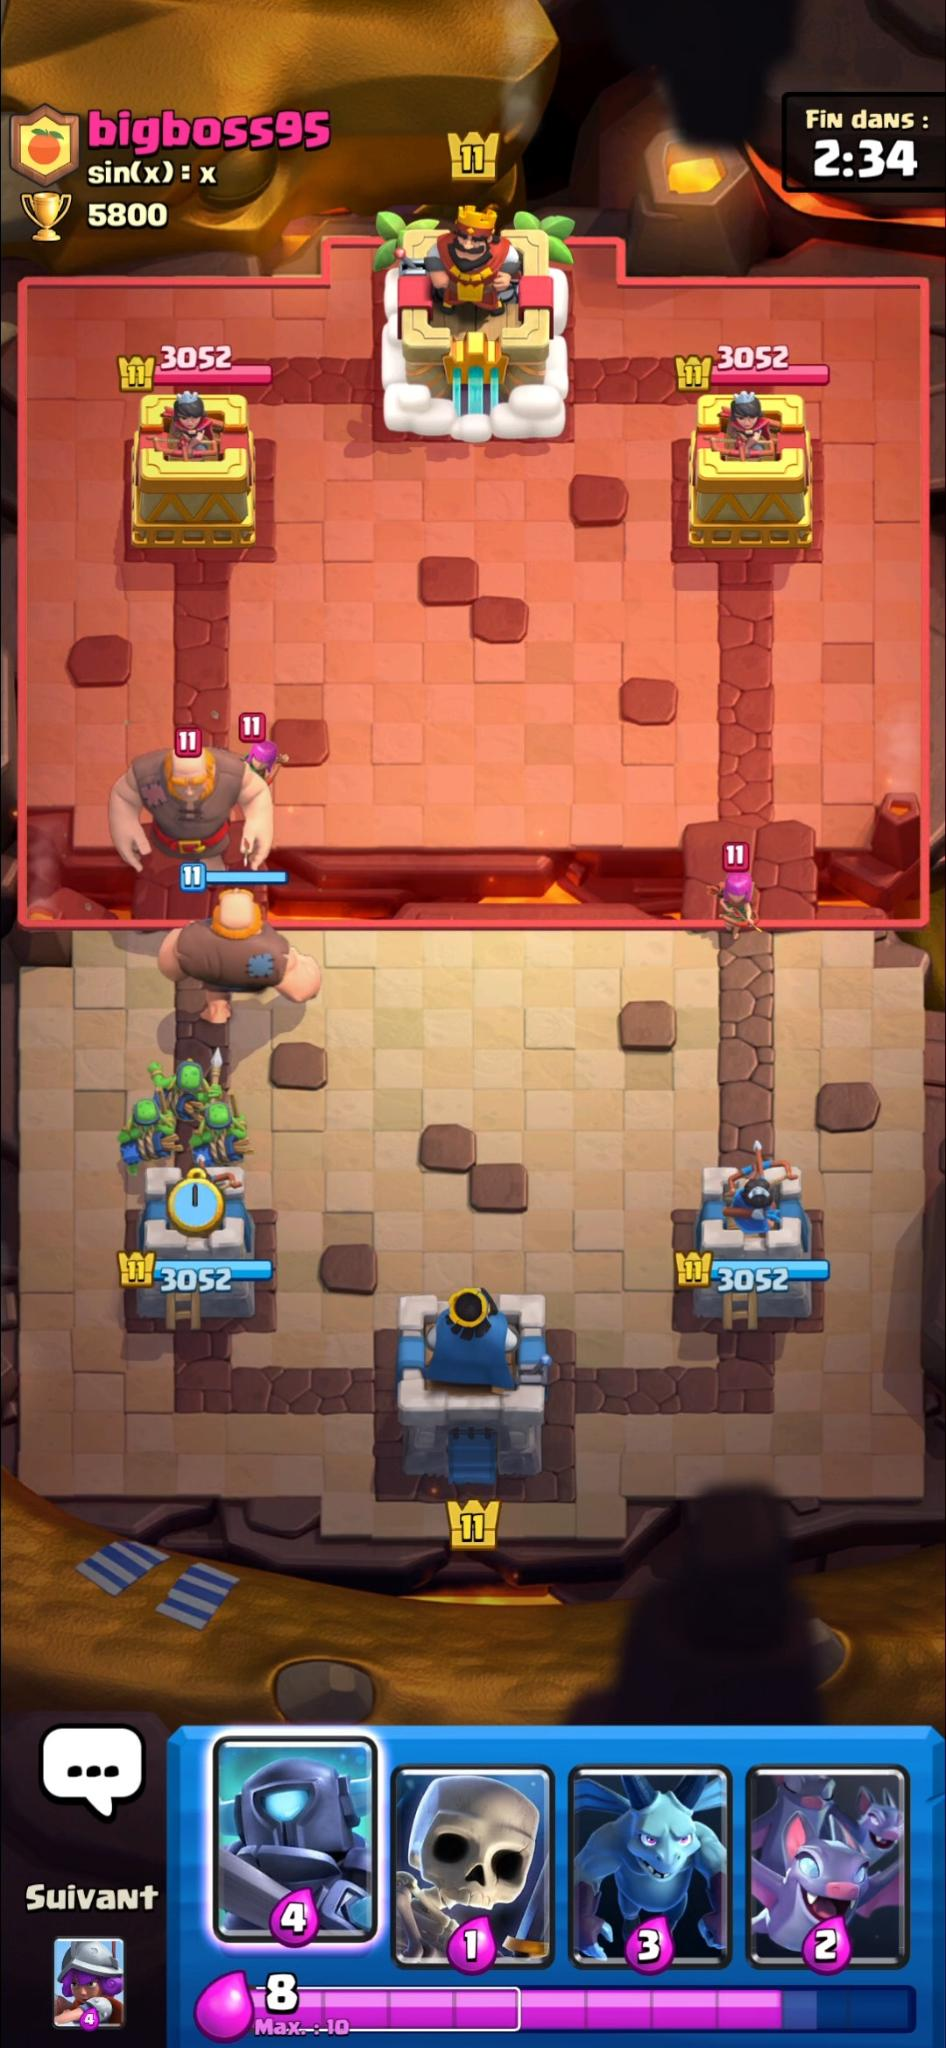archere: (711, 867, 770, 944), (236, 738, 294, 781)
geant: (165, 883, 320, 1027), (115, 742, 276, 876)
gobelin_lances: (142, 1051, 238, 1115), (191, 1101, 261, 1169), (123, 1096, 186, 1166)
